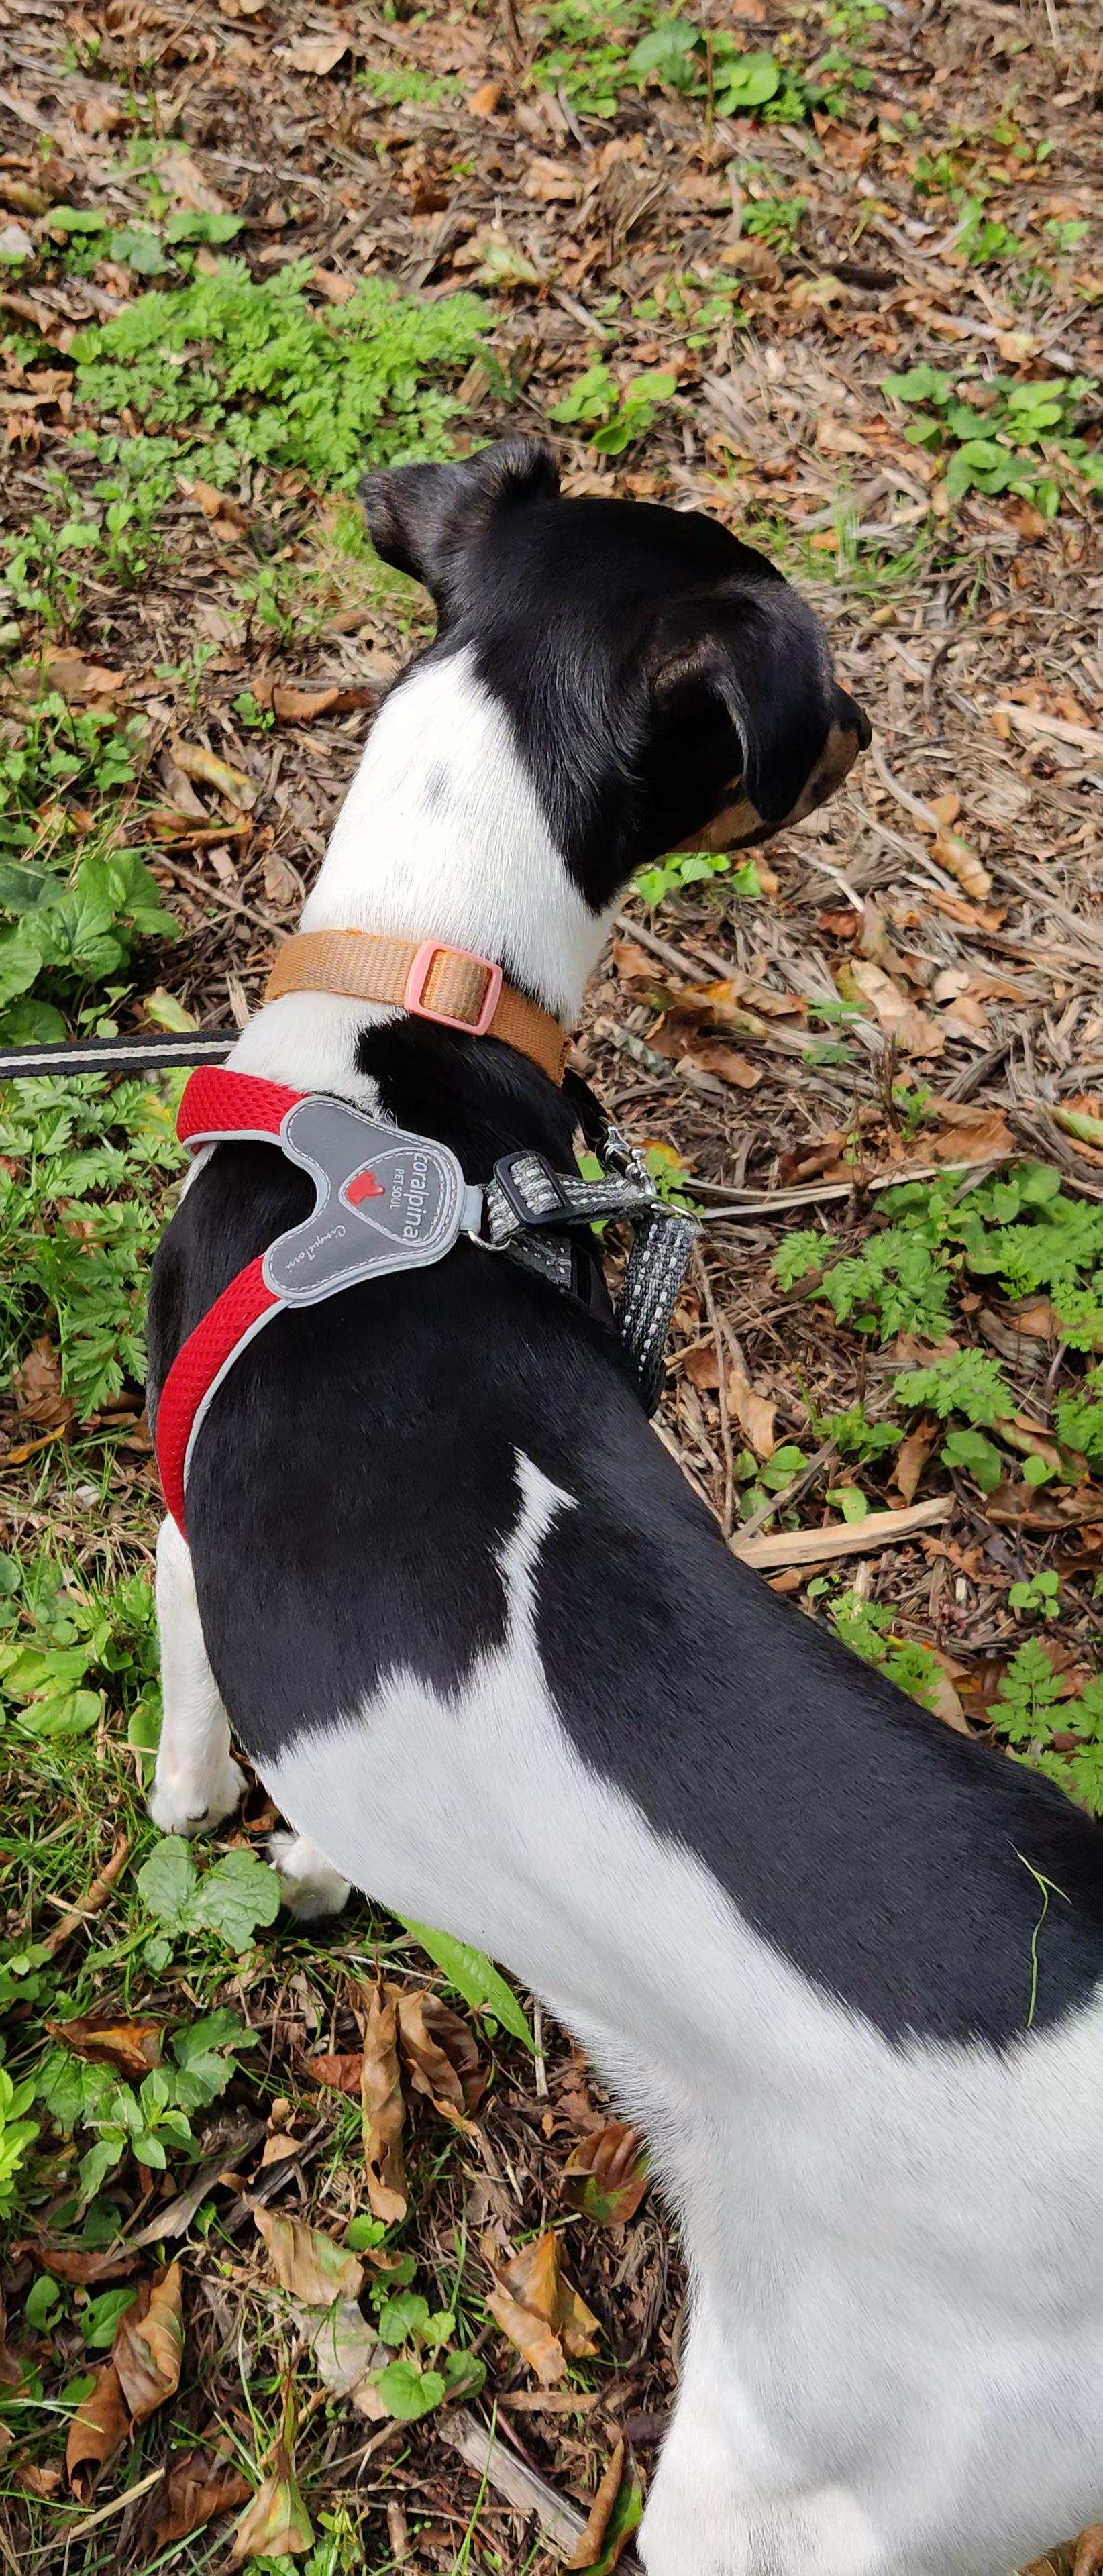Dog: (102, 401, 1103, 2576)
